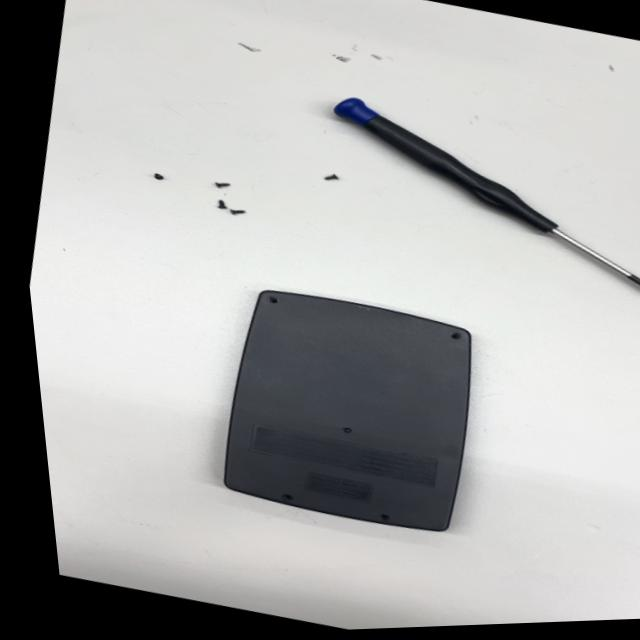back_cover: (178, 265, 511, 562)
screw: (141, 168, 179, 189), (214, 176, 237, 192), (222, 203, 245, 219), (326, 168, 344, 184), (215, 195, 229, 212)
screw_driver: (302, 78, 640, 312)
